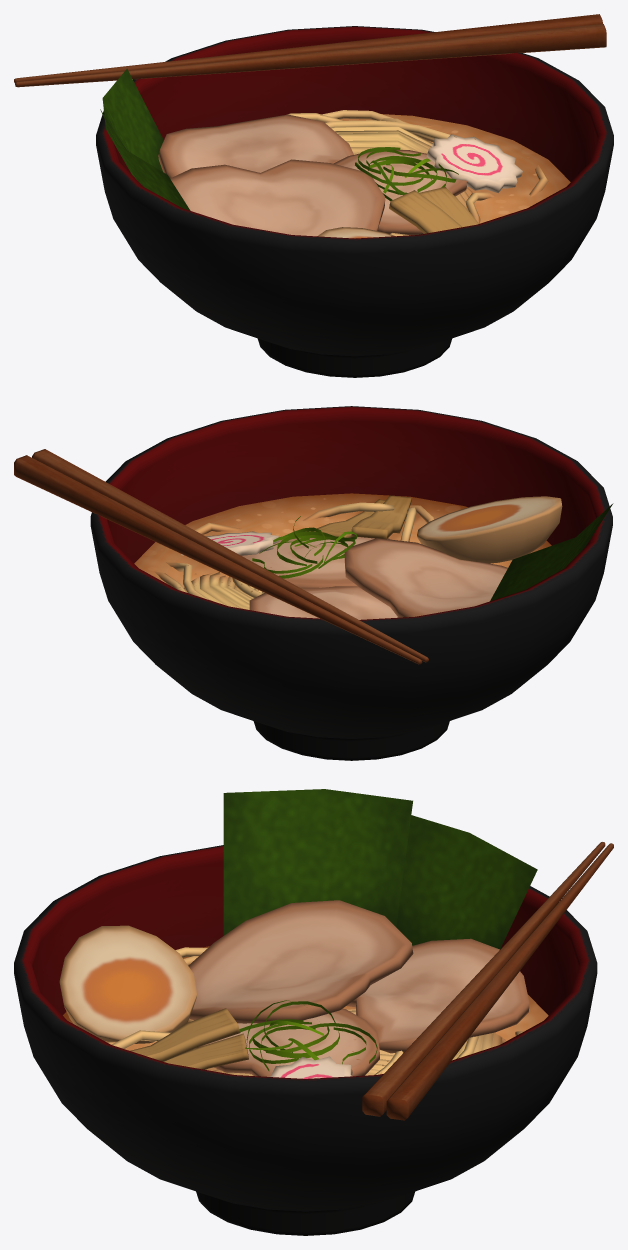
The model's file is Ramen.fbx.
The picture shows the model from 3 angles, top to bottom: view 1: azimuth 30°, elevation 25°; view 2: azimuth 150°, elevation 25°; view 3: azimuth 270°, elevation 25°; orthographic projection. The views are drawn at different scales.
Parts seen in each view (by area): view 1: Ramen; view 2: Ramen; view 3: Ramen.
Part boxes in pixels (left/top/right/bottom): Ramen: left=14, top=14, right=613, bottom=377; Ramen: left=14, top=406, right=613, bottom=760; Ramen: left=14, top=789, right=613, bottom=1235.
Size of the model in its own units: 201 by 90 by 178.
